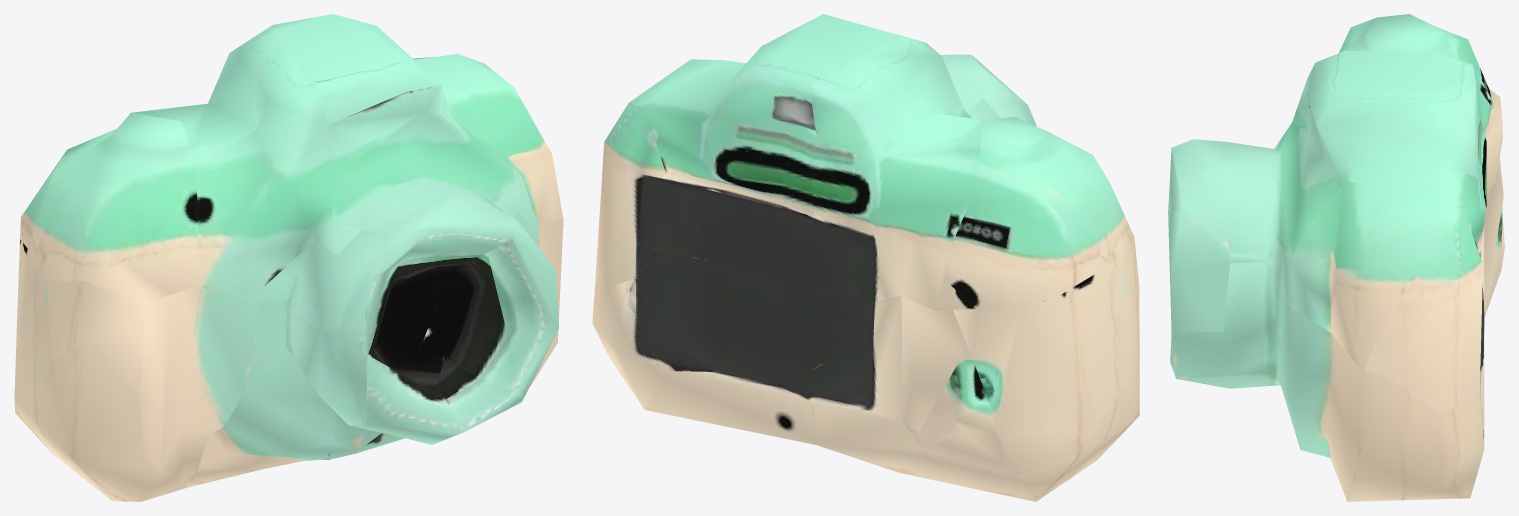
The model's file is s1_gen_camera.glb.
3 views of the same model, side by side, from view 1: azimuth 30°, elevation 25°; view 2: azimuth 150°, elevation 25°; view 3: azimuth 270°, elevation 25° (orthographic). The views are drawn at different scales.
Bounding box in the file's own units: 1.9 × 1.4 × 1.15.
1 material, 1 textured.
